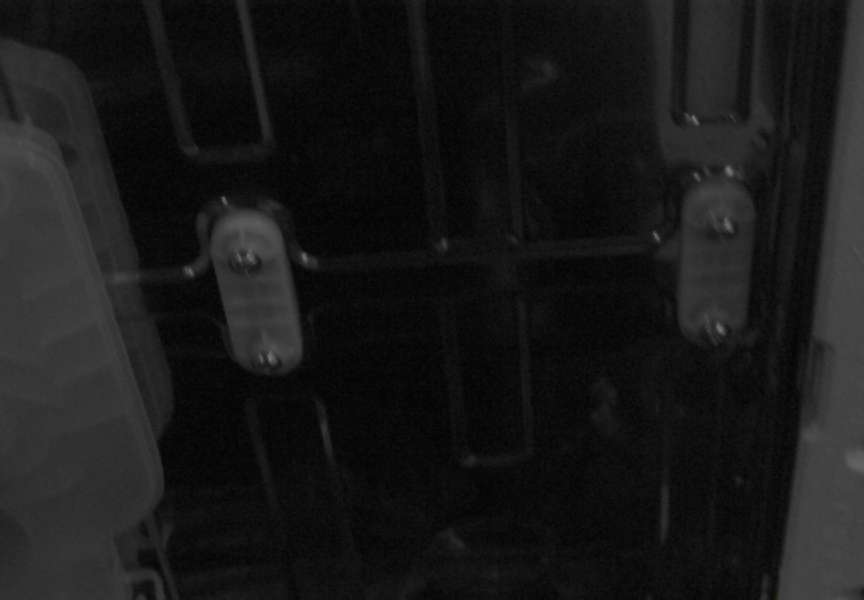screw: (228, 248, 262, 275), (703, 317, 733, 347), (708, 214, 738, 239), (253, 349, 282, 373)
